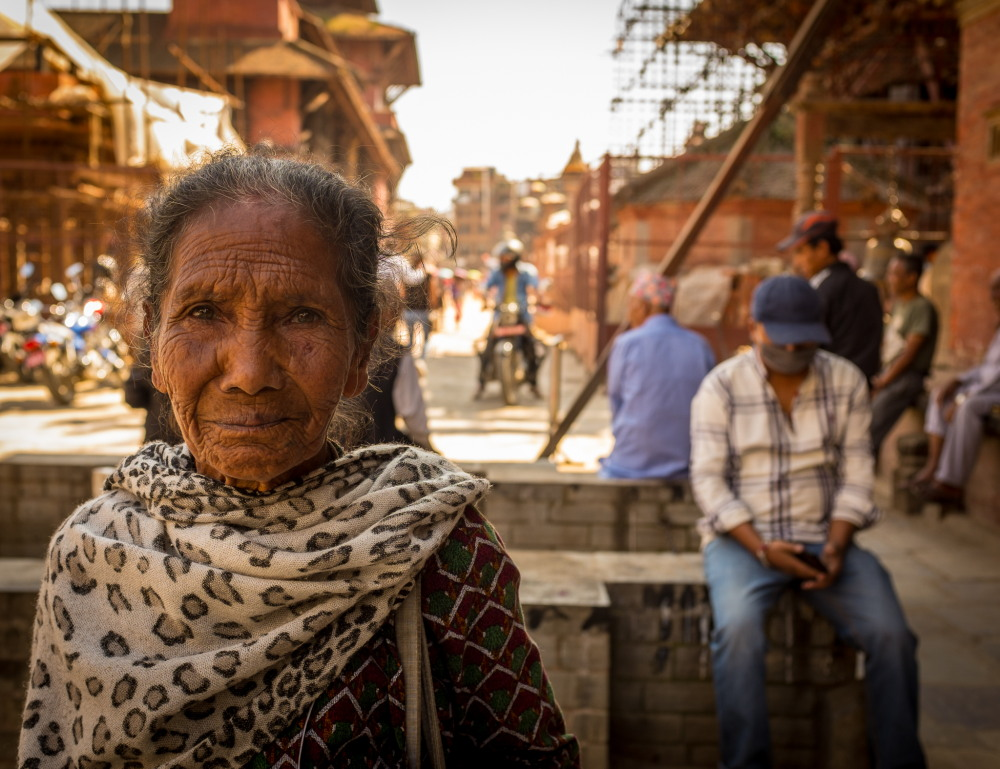human: (26, 152, 588, 769), (673, 269, 928, 769)
